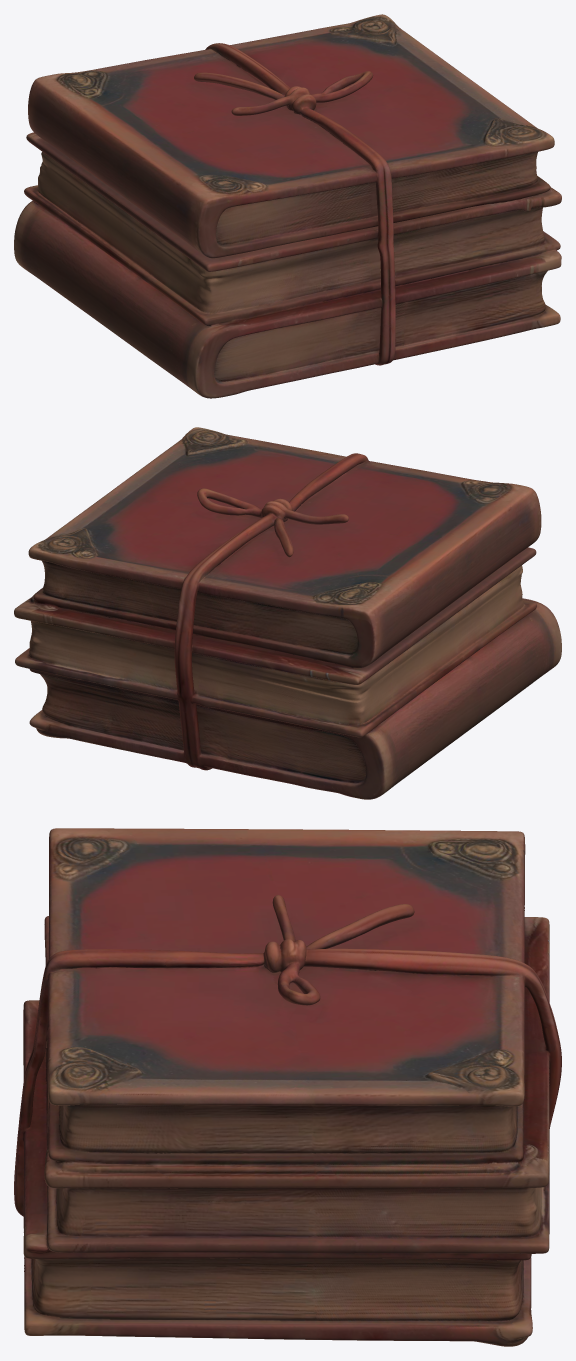
Rendered from detailed_realistic_model_stack_02.glb.
The picture shows the model from 3 angles, top to bottom: view 1: azimuth 30°, elevation 25°; view 2: azimuth 150°, elevation 25°; view 3: azimuth 270°, elevation 25°; orthographic projection. The views are drawn at different scales.
Visible parts, largest first — view 1: tripo_node_f82a00a9-f083-4a9c-ba28-4c893a8dc457; view 2: tripo_node_f82a00a9-f083-4a9c-ba28-4c893a8dc457; view 3: tripo_node_f82a00a9-f083-4a9c-ba28-4c893a8dc457.
Part boxes in pixels (box(x1,y1,x2,y2)): tripo_node_f82a00a9-f083-4a9c-ba28-4c893a8dc457: box(14, 14, 561, 398); tripo_node_f82a00a9-f083-4a9c-ba28-4c893a8dc457: box(14, 427, 561, 799); tripo_node_f82a00a9-f083-4a9c-ba28-4c893a8dc457: box(14, 828, 561, 1346).
Size of the model in its own units: 1 by 0.5501 by 0.9158.
1 material, 1 textured.
